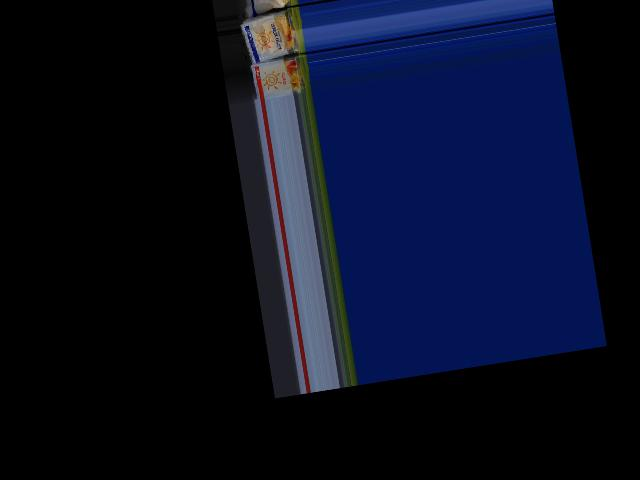cheese: (247, 55, 312, 102)
